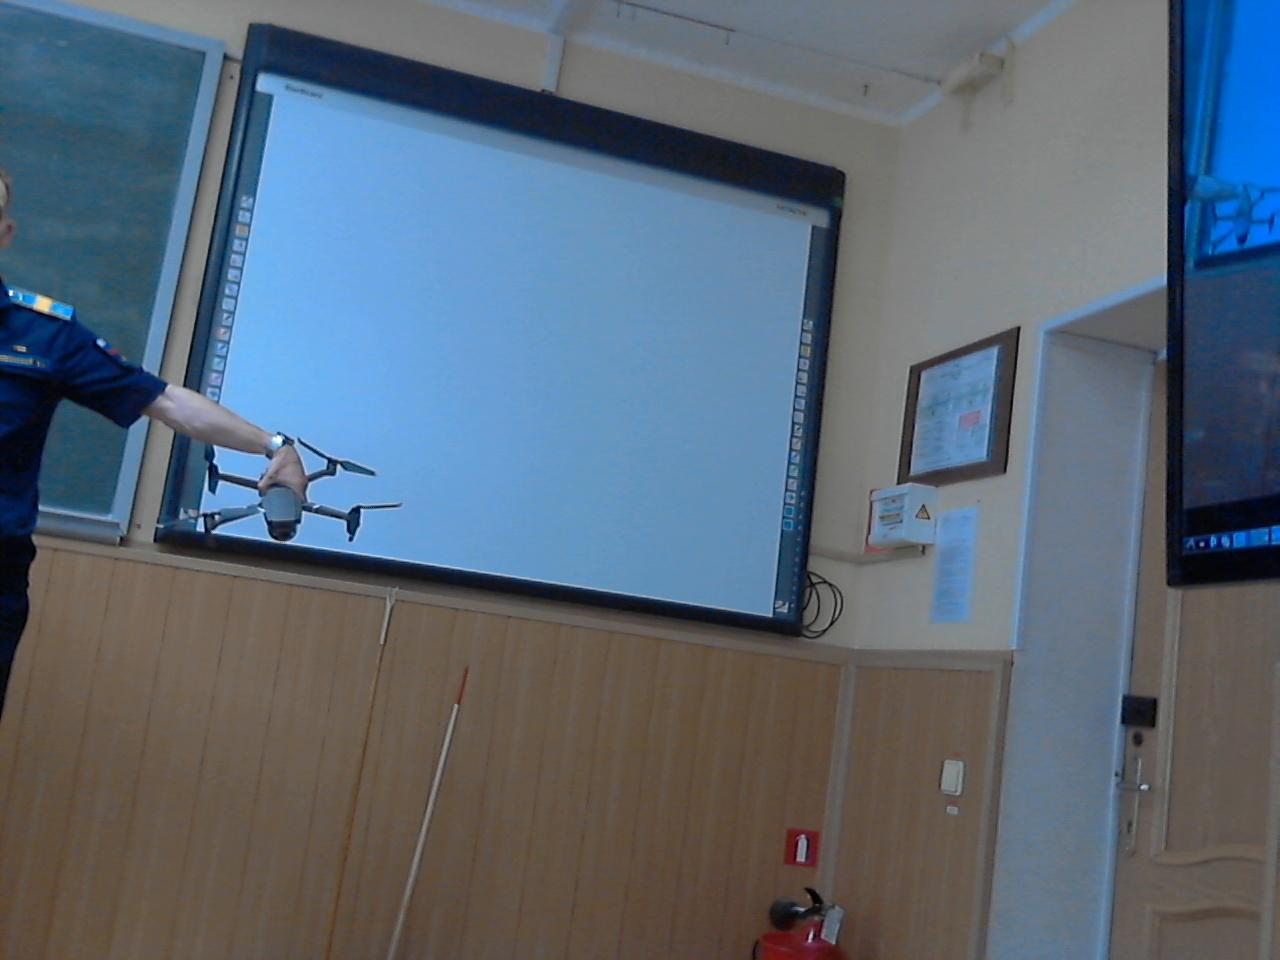drone: (156, 440, 412, 569)
